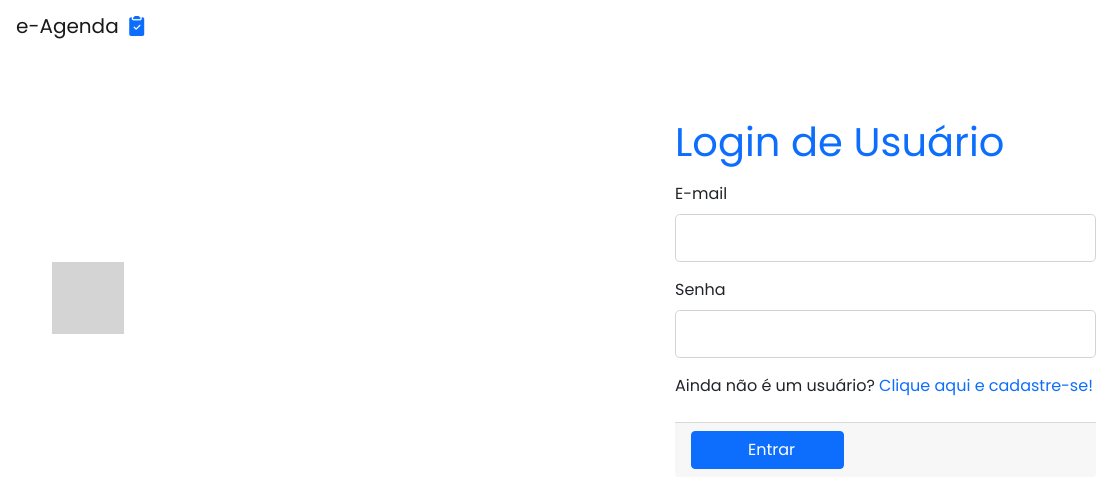
Processo de login do usuário › Deve - Validar formato correto
The image size is (1117, 486).
Type "errado" into the field named "email".
click(886, 238); type("errado")  # box 675,214 -> 1096,262
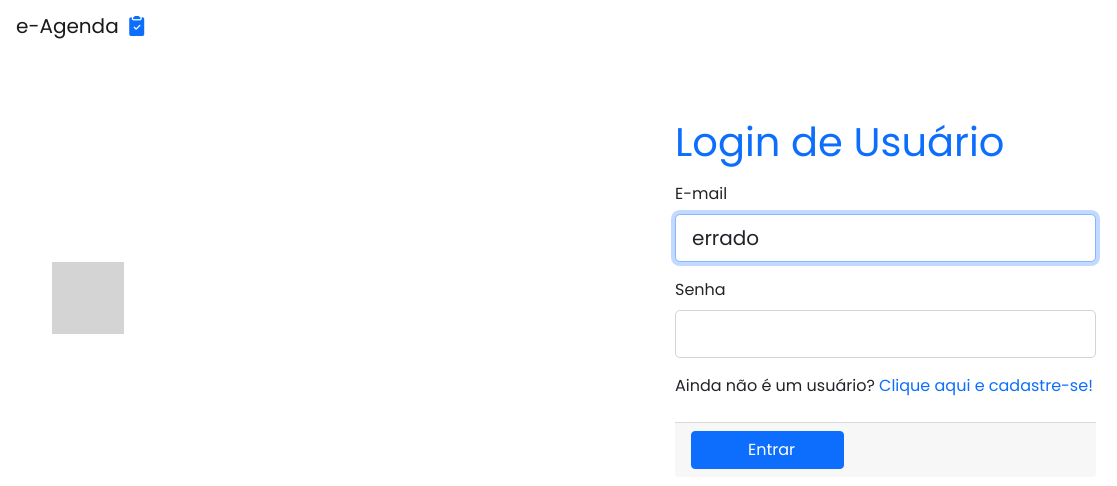
Type "&abc123ABC" into the password field named "senha".
click(886, 334); type("&abc123ABC")  # box 675,310 -> 1096,358
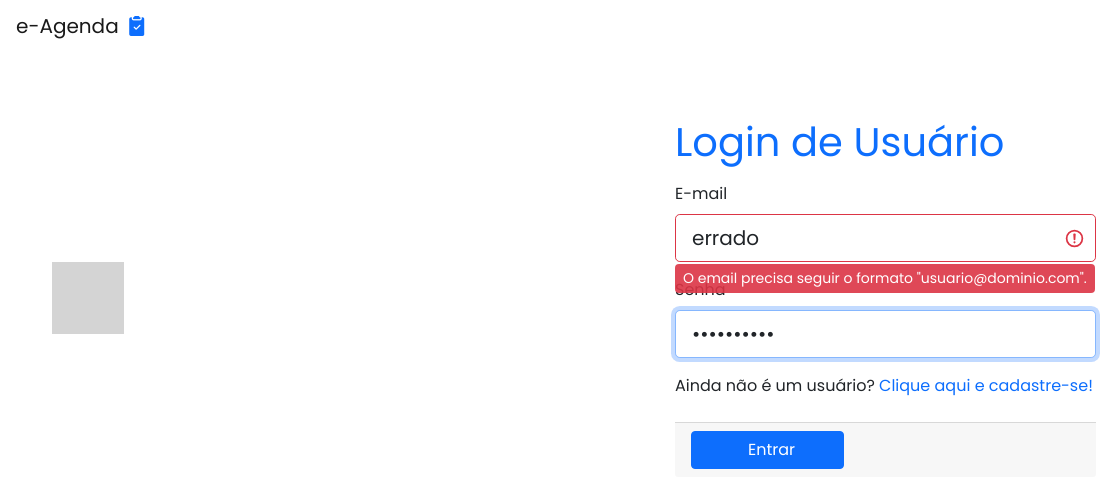
Now the text "O email precisa seguir o formato \"usuario@dominio.com\"." is shown, box 683,268 -> 1087,288
